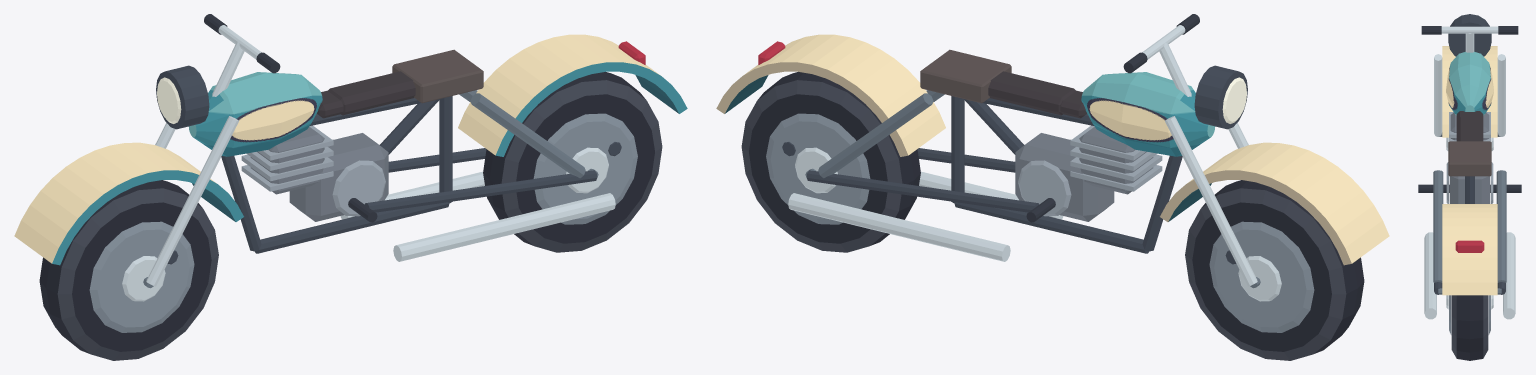
3 renders of one model, left to right at view 1: azimuth 30°, elevation 25°; view 2: azimuth 150°, elevation 25°; view 3: azimuth 270°, elevation 25°, orthographic. The views are drawn at different scales.
Visible parts, largest first — view 1: Body_static, Wheel_F_tire_hub, Wheel_R_tire_hub; view 2: Body_static, Wheel_F_tire_hub, Wheel_R_tire_hub; view 3: Body_static, Wheel_R_tire_hub.
Boxes of the visible parts, x1,y1,x2,y2 form: Body_static: (14,14,687,288); Wheel_F_tire_hub: (39,180,218,360); Wheel_R_tire_hub: (483,72,662,252); Body_static: (716,14,1389,288); Wheel_F_tire_hub: (1185,180,1364,360); Wheel_R_tire_hub: (741,72,920,252); Body_static: (1418,14,1521,319); Wheel_R_tire_hub: (1446,295,1493,360).
Size of the model in its own units: 55.84 by 24.28 by 10.78.
1 material, 1 textured.
